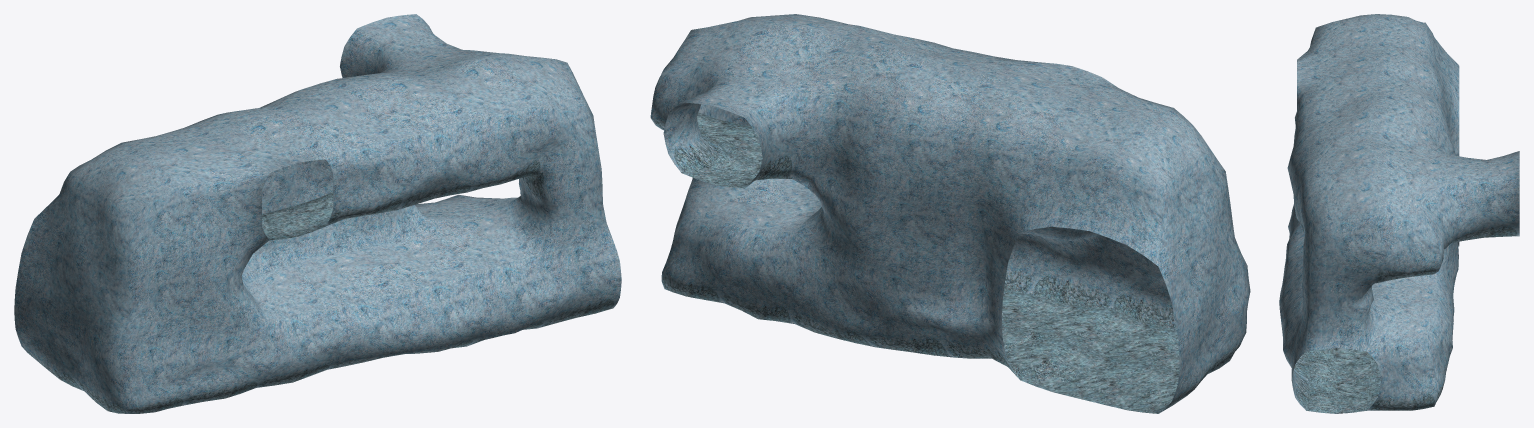
File: thm_all_cave_s03_ice_r11_r11.fbx
The picture shows the model from 3 angles, left to right: view 1: azimuth 30°, elevation 25°; view 2: azimuth 150°, elevation 25°; view 3: azimuth 270°, elevation 25°; orthographic projection. The views are drawn at different scales.
Parts seen in each view (by area): view 1: mesh_node; view 2: mesh_node; view 3: mesh_node.
Boxes of the visible parts, left/top/right/bottom form: mesh_node: left=14, top=14, right=621, bottom=413; mesh_node: left=650, top=14, right=1250, bottom=413; mesh_node: left=1279, top=14, right=1519, bottom=413.
Bounding box in the file's own units: 58.69 × 27.21 × 26.24.
